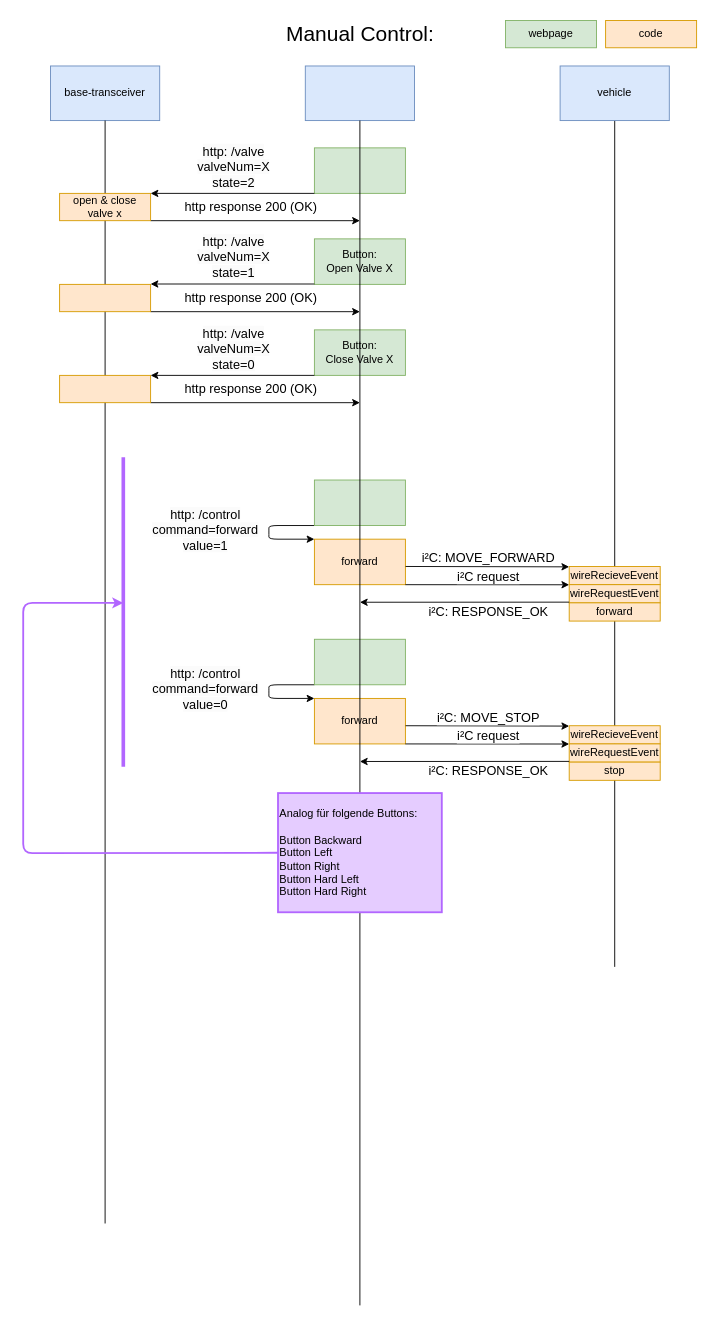
The diagram is 713 pixels wide and 1322 high, and some of its shapes have lost their labels. The box of each missing label's shape, as (x1, y1, x2, y2) in pixels:
Button: Trigger Valve X: (313, 147, 405, 193)
close valve x: (59, 374, 151, 403)
open valve x: (59, 283, 151, 312)
Press Button: Forward: (313, 479, 405, 526)
Release Button: Forward: (313, 638, 405, 685)
vehicle-transceiver: (304, 65, 415, 121)
